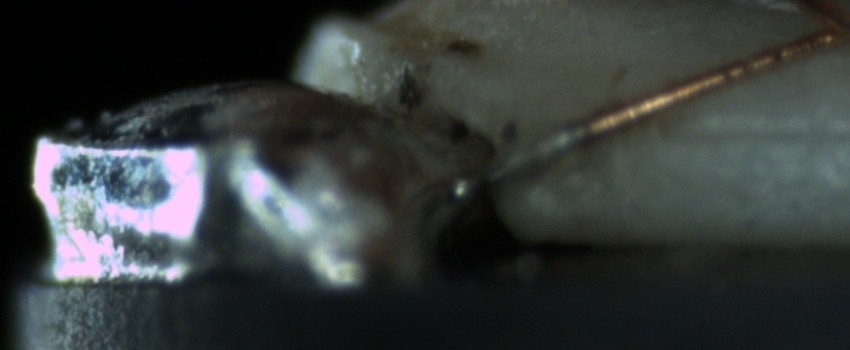CL: (789, 5, 850, 55)
DL: (671, 97, 847, 164)
TS: (451, 122, 587, 204)
